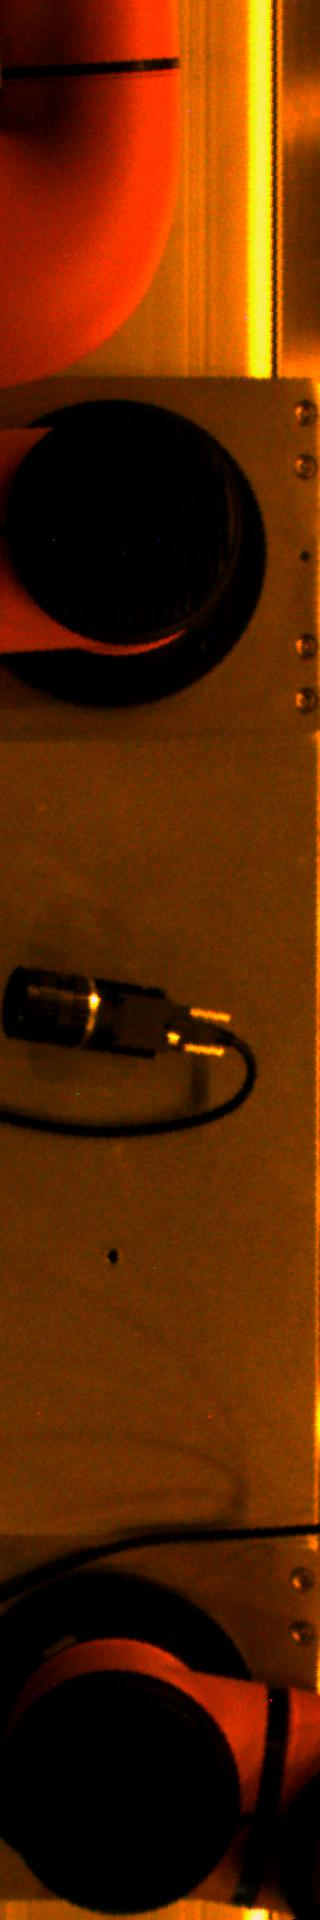keyPoint_2: (97, 1240, 128, 1271)
